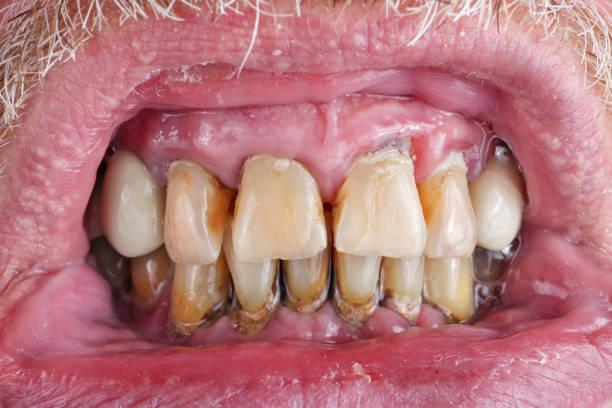Calculus: (221, 137, 333, 267), (336, 132, 429, 251), (156, 154, 241, 259), (409, 144, 479, 251), (166, 244, 236, 338), (221, 242, 289, 329), (326, 232, 384, 332), (272, 238, 334, 311), (379, 240, 431, 322)
